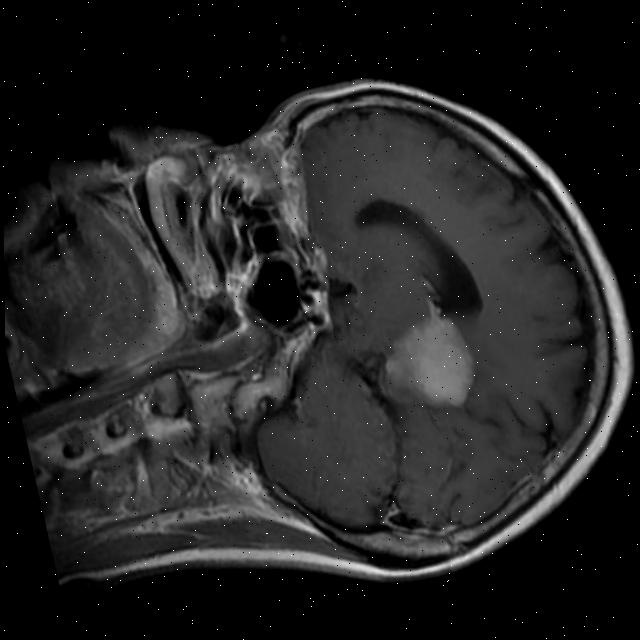Meningioma: (359, 289, 485, 426)
